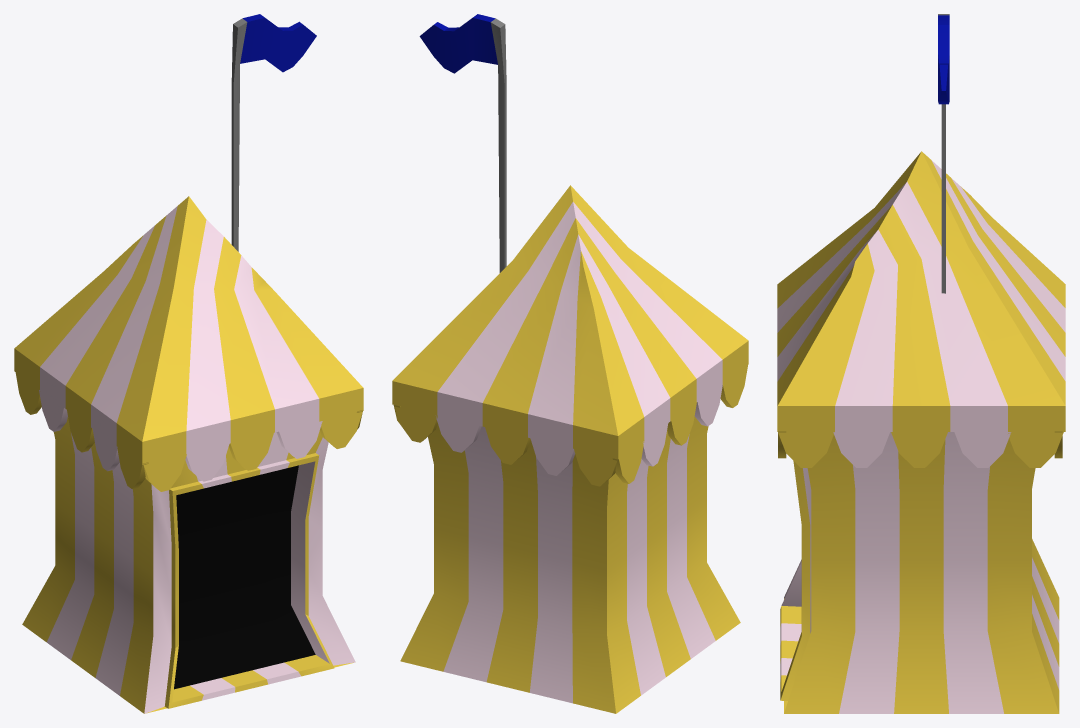
The model's file is BarracaAmarela.fbx.
3 views of the same model, side by side, from view 1: azimuth 30°, elevation 25°; view 2: azimuth 150°, elevation 25°; view 3: azimuth 270°, elevation 25° (orthographic). The views are drawn at different scales.
Parts seen in each view (by area): view 1: BarracaAmarela; view 2: BarracaAmarela; view 3: BarracaAmarela.
Boxes of the visible parts, x1,y1,x2,y2 form: BarracaAmarela: (14,14,363,713); BarracaAmarela: (392,14,748,713); BarracaAmarela: (777,14,1065,713).
Size of the model in its own units: 265 by 615 by 237.
Materials: 1 (1 with a texture image).
